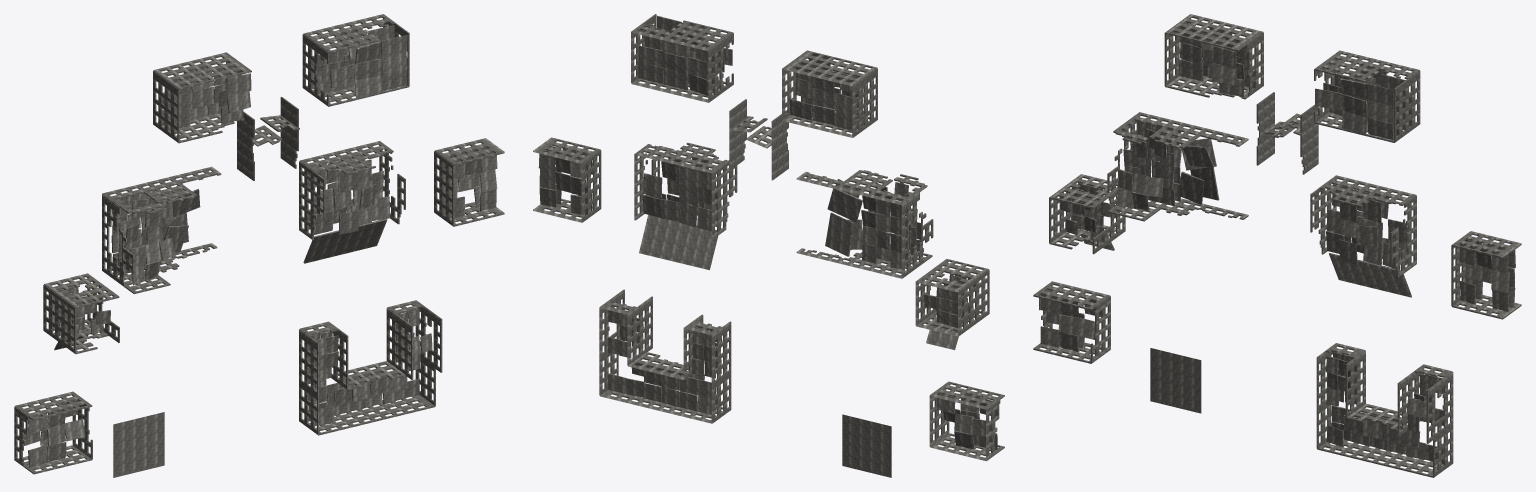
The model's file is dz_common_concrete.obj.
3 views of the same model, side by side, from view 1: azimuth 30°, elevation 25°; view 2: azimuth 150°, elevation 25°; view 3: azimuth 330°, elevation 25° (orthographic). The views are drawn at different scales.
Visible parts, largest first — view 1: dz_common_concrete; view 2: dz_common_concrete; view 3: dz_common_concrete.
Part boxes in pixels (bbox=[...]): dz_common_concrete: bbox=[14, 14, 504, 477]; dz_common_concrete: bbox=[533, 14, 1004, 477]; dz_common_concrete: bbox=[1033, 14, 1521, 477].
Size of the model in its own units: 129 by 104 by 15.01.
Materials: 1 (1 with a texture image).
